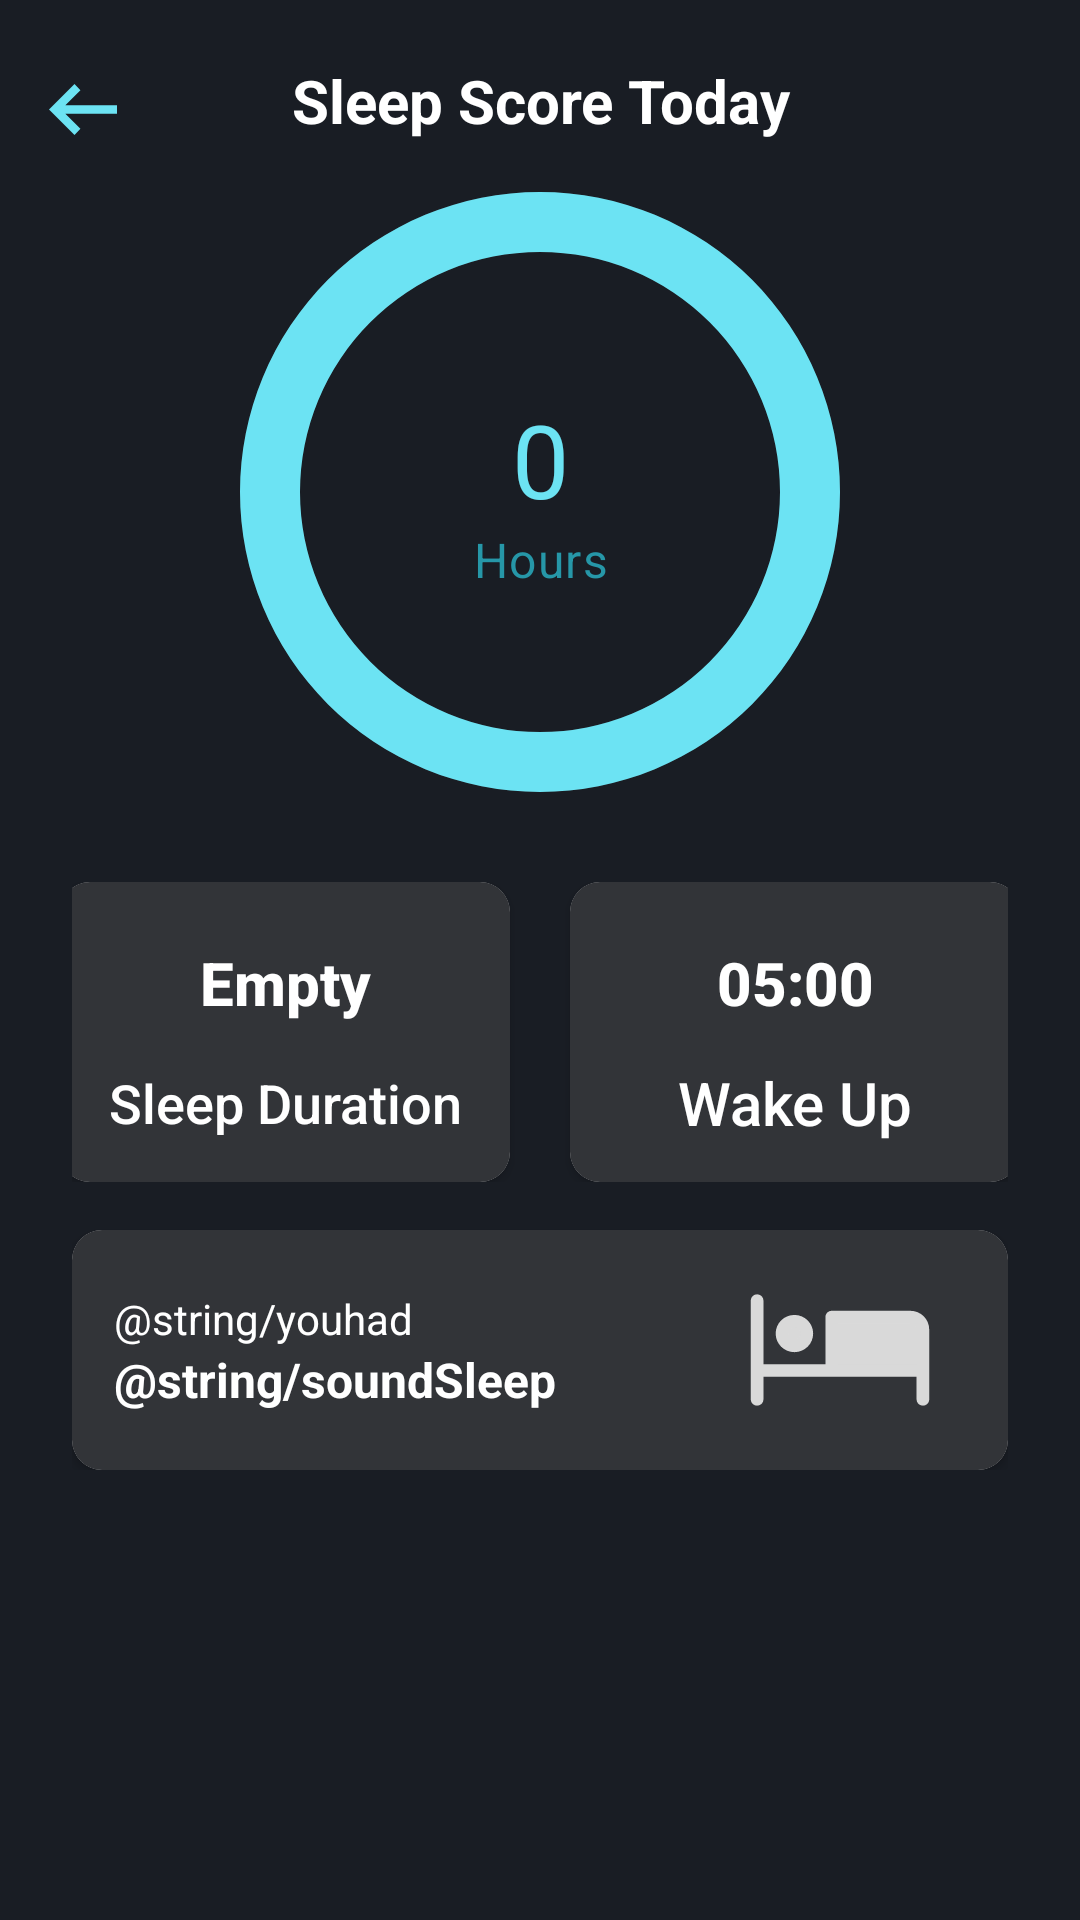

Locate icon controls on the screen. Image size 1080x1920, boxes as (x1, y1, x2, y2).
arrow left: (49, 84, 117, 135)
sleeptime: (750, 1294, 930, 1406)
